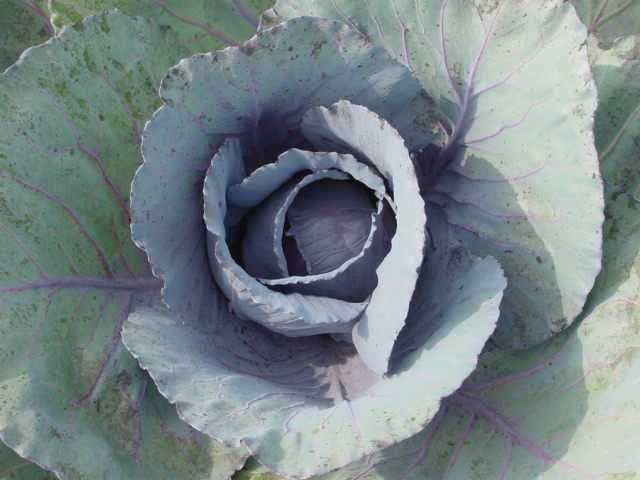cabbage: (201, 97, 431, 376)
